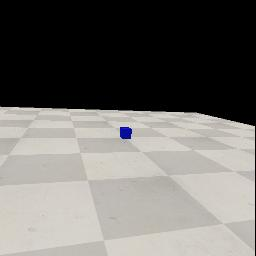box: (120, 127, 132, 139)
